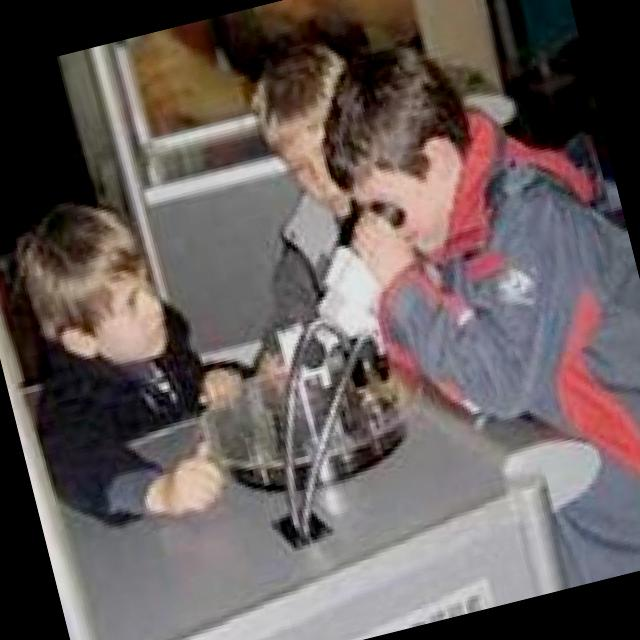no_vest: (22, 301, 232, 454)
